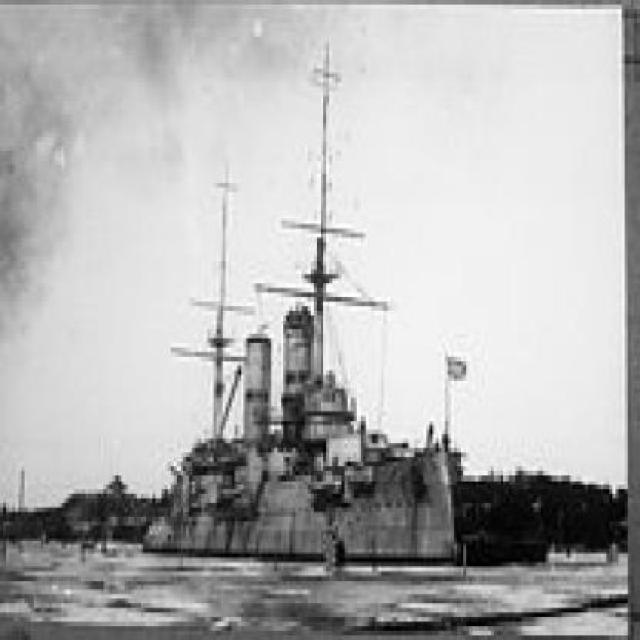warship2: (138, 43, 486, 581)
